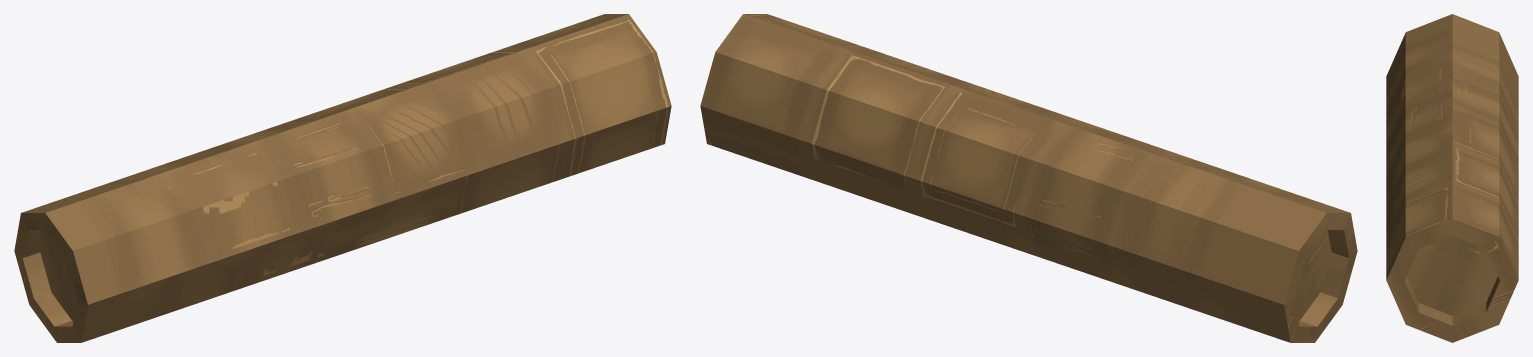
The model's file is log.fbx.
3 views of the same model, side by side, from view 1: azimuth 30°, elevation 25°; view 2: azimuth 150°, elevation 25°; view 3: azimuth 270°, elevation 25° (orthographic). The views are drawn at different scales.
Visible parts, largest first — view 1: log in water; view 2: log in water; view 3: log in water.
Part boxes in pixels (x1,y1,x2,y2): log in water: [14, 14, 671, 342]; log in water: [700, 14, 1357, 342]; log in water: [1386, 14, 1518, 342].
Bounding box in the file's own units: 738 × 224 × 158.
Materials: 1 (1 with a texture image).
